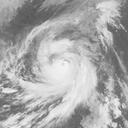cyclone: (9, 16, 97, 110)
